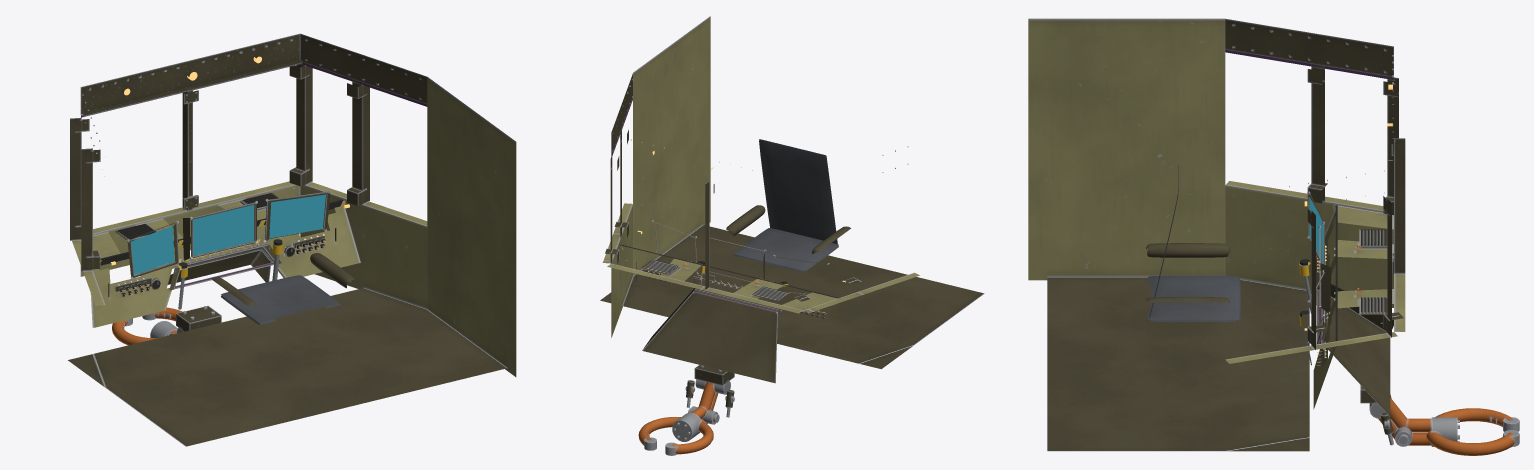
File: sd_yuk_cockpit_r008.glb
3 views of the same model, side by side, from view 1: azimuth 30°, elevation 25°; view 2: azimuth 150°, elevation 25°; view 3: azimuth 270°, elevation 25° (orthographic). The views are drawn at different scales.
Visible parts, largest first — view 1: LOD0_body, SCR_RADAR, SCR_HULL, SCR_SYS, ART_claw_root_geo, ART_claw_jaw_L_geo; view 2: LOD0_body, ART_claw_shoulder_geo, ART_claw_jaw_L_geo, ART_claw_wrist_geo, ART_claw_jaw_R_geo, ART_claw_root_geo; view 3: LOD0_body, ART_claw_jaw_R_geo, ART_claw_jaw_L_geo, ART_claw_elbow_geo, ART_claw_shoulder_geo, ART_claw_wrist_geo.
Part boxes in pixels (x1,y1,x2,y2): LOD0_body: (68, 33, 516, 446); SCR_RADAR: (193, 204, 253, 255); SCR_HULL: (269, 194, 325, 238); SCR_SYS: (131, 225, 174, 274); ART_claw_root_geo: (176, 306, 221, 331); ART_claw_jaw_L_geo: (112, 318, 157, 345); LOD0_body: (600, 16, 984, 383); ART_claw_shoulder_geo: (685, 379, 734, 410); ART_claw_jaw_L_geo: (665, 421, 713, 455); ART_claw_wrist_geo: (672, 412, 701, 441); ART_claw_jaw_R_geo: (638, 417, 681, 450); ART_claw_root_geo: (694, 365, 734, 385); LOD0_body: (1028, 18, 1405, 451); ART_claw_jaw_R_geo: (1426, 430, 1519, 455); ART_claw_jaw_L_geo: (1435, 408, 1519, 431); ART_claw_elbow_geo: (1388, 418, 1431, 446); ART_claw_shoulder_geo: (1369, 394, 1407, 439); ART_claw_wrist_geo: (1431, 417, 1459, 446).
Size of the model in its own units: 2.35 by 2 by 2.62.
3 materials, 1 textured.
